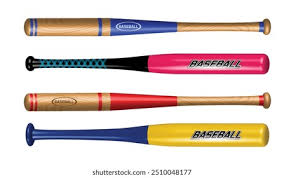baseball bat: (26, 122, 271, 148), (22, 52, 271, 76), (24, 17, 273, 37), (22, 92, 272, 111)
